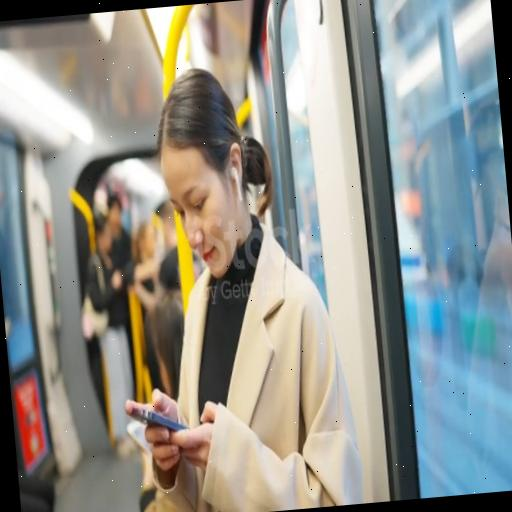earphone: (230, 155, 248, 212)
